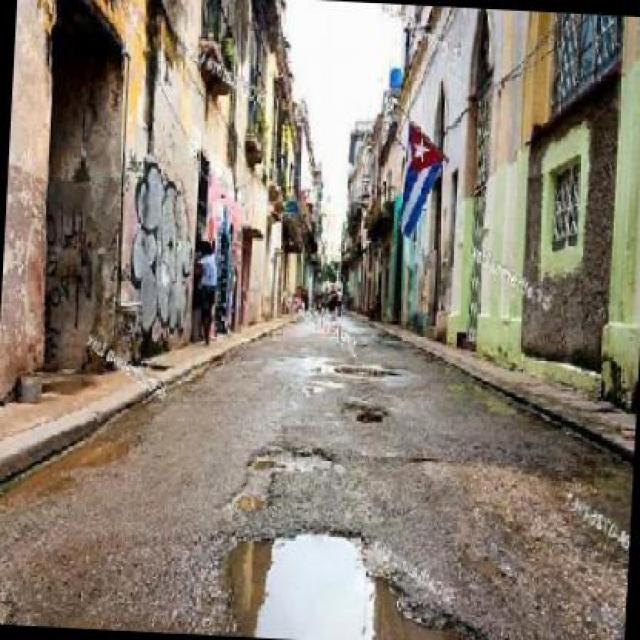pothole1: (217, 516, 512, 638), (225, 434, 281, 514), (246, 435, 337, 474), (339, 396, 390, 424), (334, 359, 404, 378)
